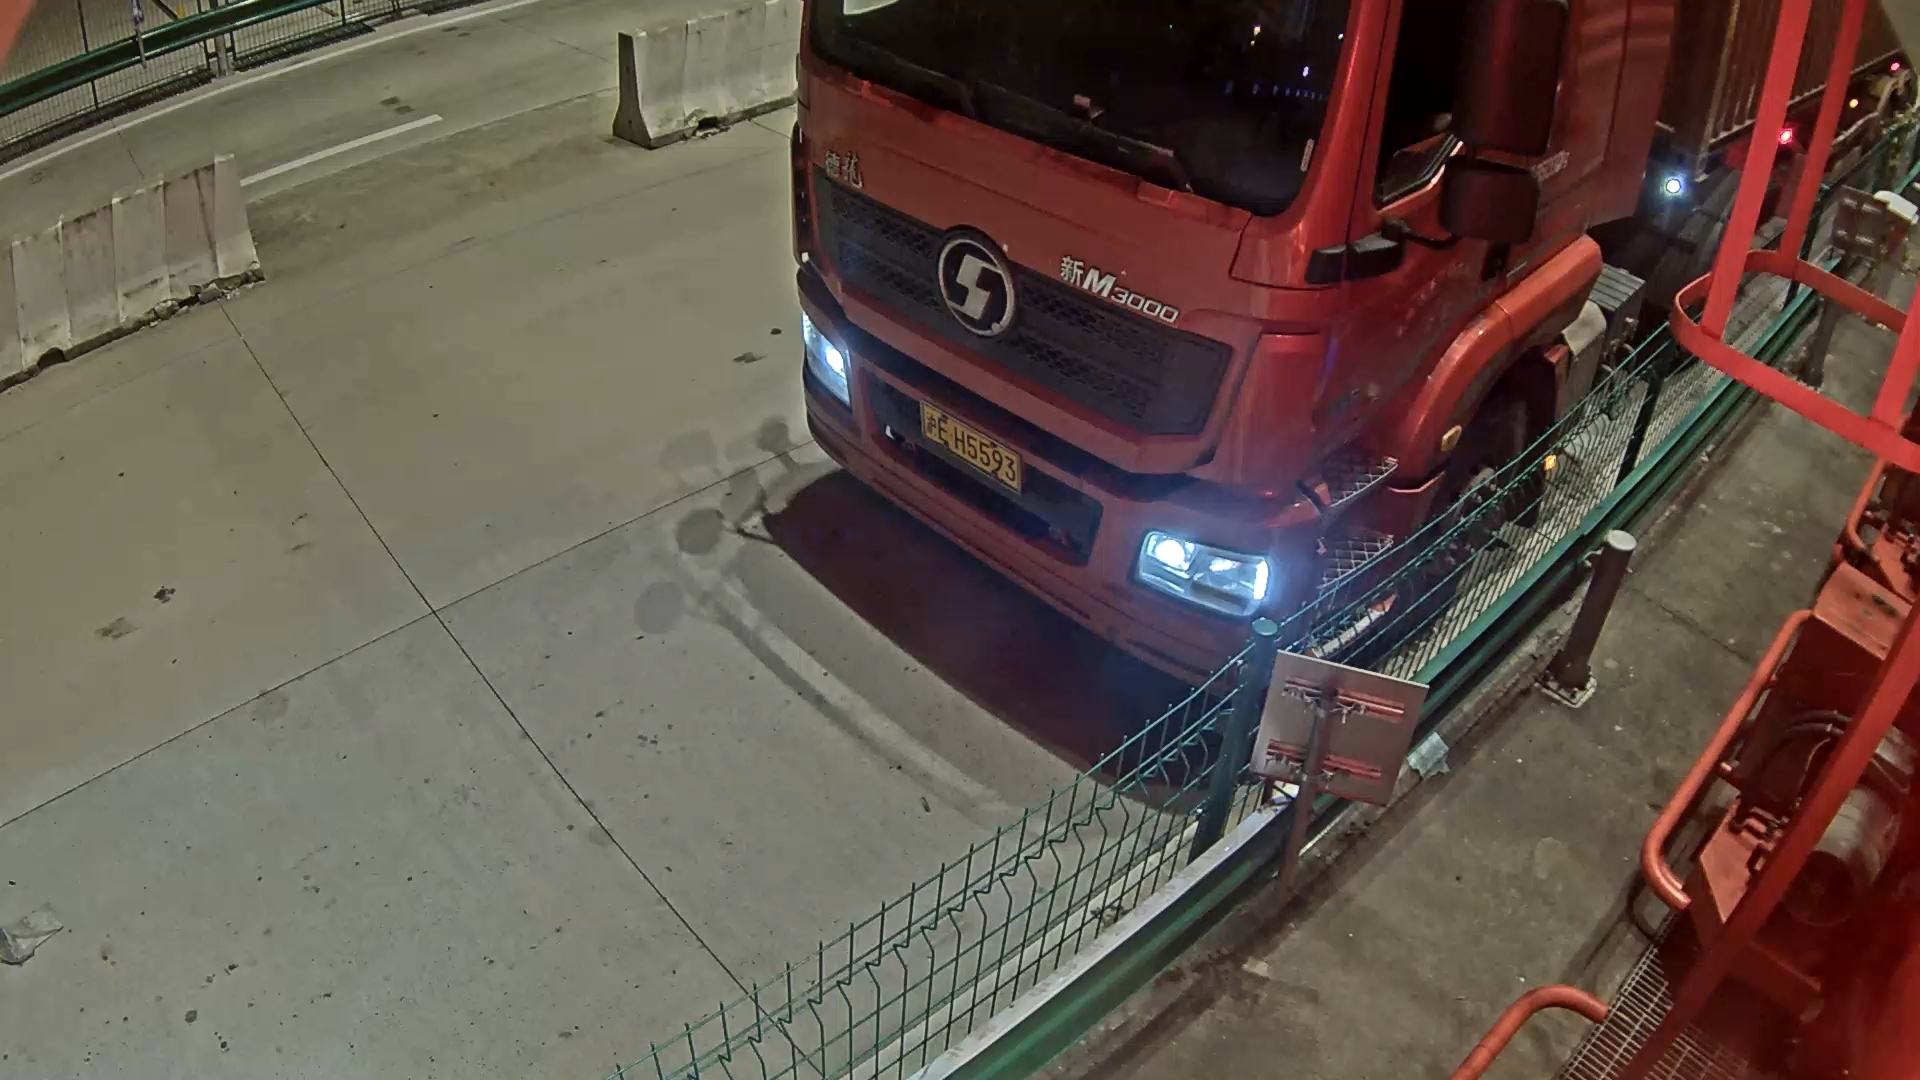head: (792, 1, 1677, 691)
plate: (922, 405, 1015, 485)
